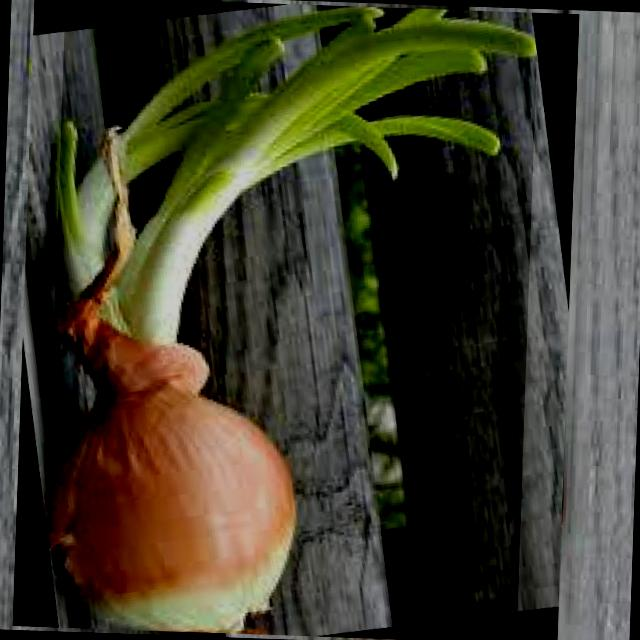sprouting: (47, 6, 536, 634), (463, 102, 524, 274)
